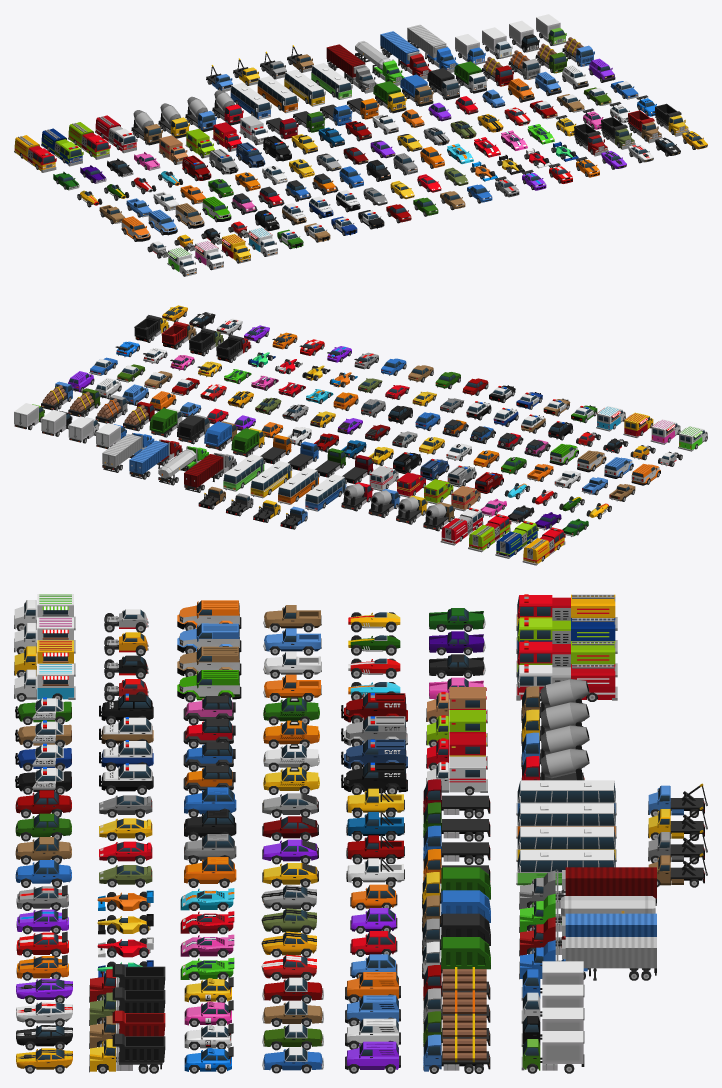
File: Simple_Vehicles_Pack.glb
The picture shows the model from 3 angles, top to bottom: view 1: azimuth 30°, elevation 25°; view 2: azimuth 150°, elevation 25°; view 3: azimuth 270°, elevation 25°; orthographic projection. The views are drawn at different scales.
Visible parts, largest first — view 1: unnamed (×4); view 2: unnamed (×4); view 3: unnamed (×4).
Boxes of the visible parts, bbox=[...] form: unnamed (×4): bbox=[14, 14, 707, 276]; unnamed (×4): bbox=[14, 305, 707, 565]; unnamed (×4): bbox=[14, 594, 707, 1073].
Size of the model in its own units: 78.49 by 3.25 by 50.52.
Materials: 4 (4 with a texture image).
